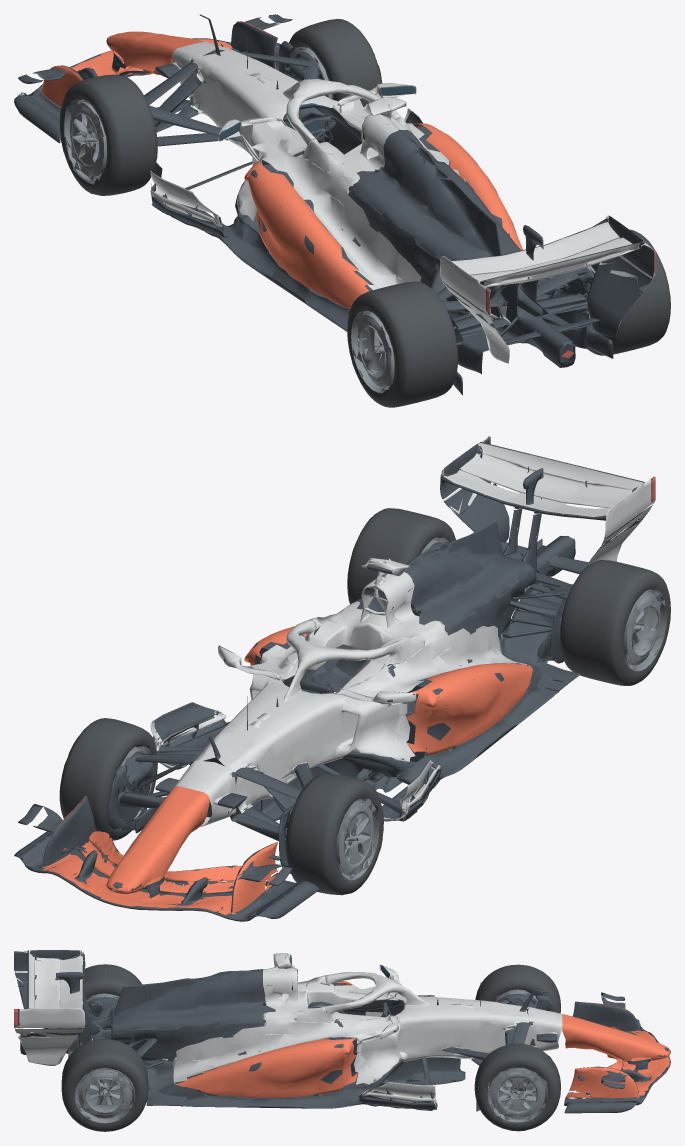
File: audi-far.glb
3 views of the same model, one above another, from view 1: azimuth 30°, elevation 25°; view 2: azimuth 150°, elevation 25°; view 3: azimuth 270°, elevation 25° (orthographic). The views are drawn at different scales.
Visible parts, largest first — view 1: body, wheel2, wheel0, rearFlaps, frontFlaps, wheel1, wheel3, frontWing, rearWing; view 2: body, frontFlaps, wheel2, rearFlaps, wheel0, wheel1, frontWing, wheel3, rearWing; view 3: body, frontFlaps, wheel3, wheel1, rearFlaps, wheel0, frontWing, wheel2, rearWing.
Part boxes in pixels (box(x1,y1,x2,y2)): body: box(144, 14, 643, 395); wheel2: box(347, 281, 458, 407); wheel0: box(59, 74, 157, 195); rearFlaps: box(440, 215, 655, 316); frontFlaps: box(21, 17, 281, 120); wheel1: box(285, 19, 382, 106); wheel3: box(587, 229, 670, 355); frontWing: box(14, 14, 292, 143); rearWing: box(443, 256, 653, 324); body: box(107, 483, 647, 873); frontFlaps: box(21, 786, 303, 916); wheel2: box(560, 560, 670, 685); rearFlaps: box(440, 436, 655, 538); wheel0: box(285, 774, 383, 895); wheel1: box(59, 718, 157, 840); frontWing: box(14, 804, 319, 921); wheel3: box(347, 508, 455, 603); rearWing: box(443, 477, 652, 545); body: box(16, 953, 562, 1111); frontFlaps: box(562, 996, 670, 1102); wheel3: box(61, 1039, 148, 1131); wheel1: box(474, 1043, 560, 1131); rearFlaps: box(14, 950, 85, 1027); wheel0: box(475, 964, 560, 1013); frontWing: box(564, 992, 670, 1113); wheel2: box(84, 964, 142, 1002); rearWing: box(14, 971, 90, 1035).
Size of the model in its own units: 1.89 by 1.19 by 5.41.
